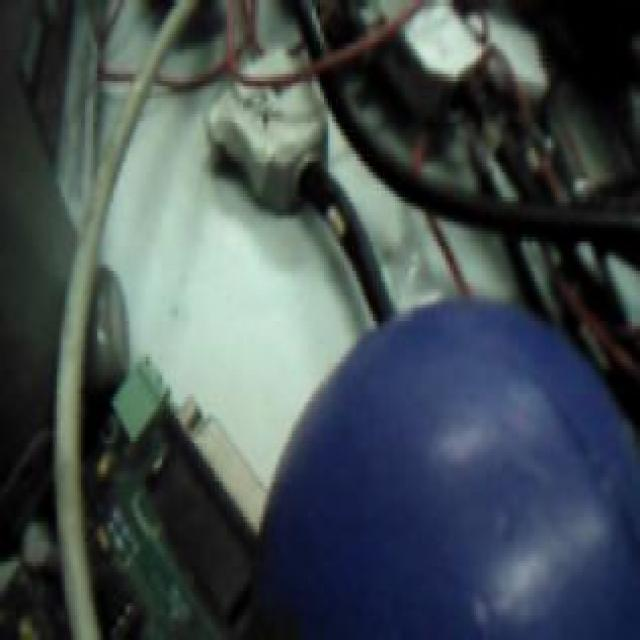BallPurple: (257, 298, 640, 640)
